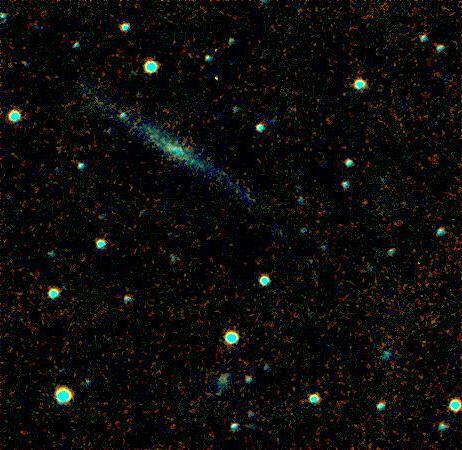star: (350, 187, 380, 217)
